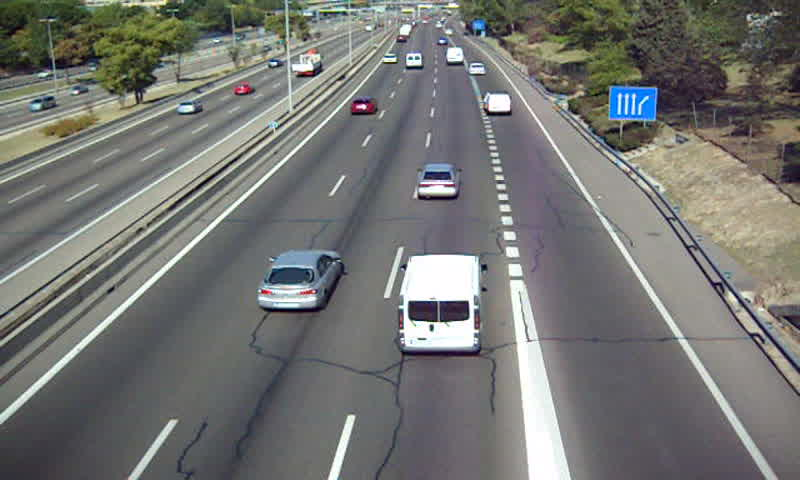car: (259, 250, 342, 309), (416, 164, 461, 200), (350, 98, 378, 114), (469, 62, 488, 76)
van: (398, 254, 483, 354), (483, 91, 512, 115), (445, 47, 464, 65), (404, 52, 423, 69)
